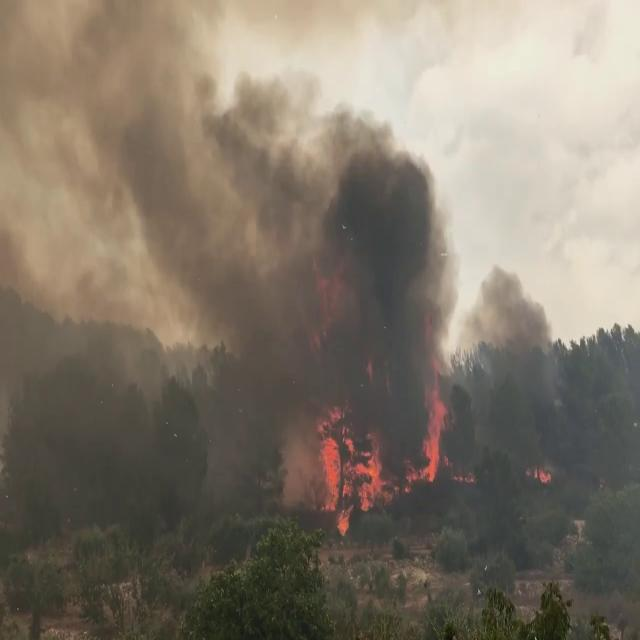Fire: (312, 417, 388, 531), (417, 384, 453, 488)
Smoke: (0, 1, 458, 486)
